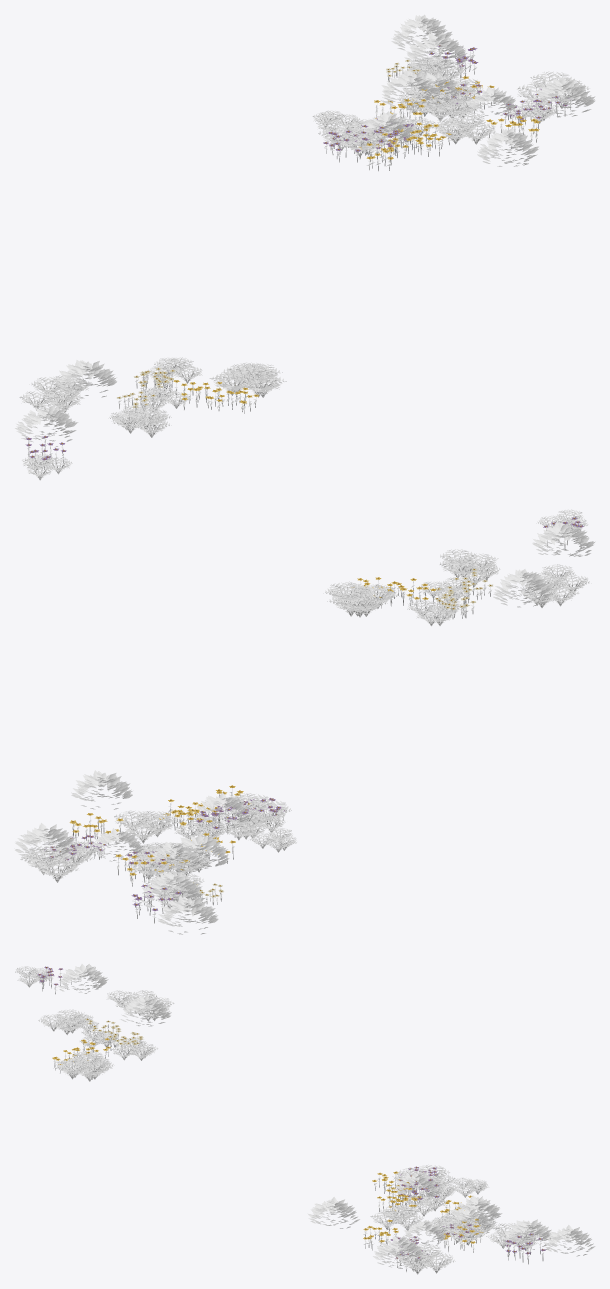
File: SM_NW_Nature_2_1_Flora.fbx
3 renders of one model, top to bottom at view 1: azimuth 30°, elevation 25°; view 2: azimuth 210°, elevation 25°; view 3: azimuth 270°, elevation 25°, orthographic. The views are drawn at different scales.
Parts seen in each view (by area): view 1: SM_NW_Nature_2_1_Flora; view 2: SM_NW_Nature_2_1_Flora; view 3: SM_NW_Nature_2_1_Flora.
Boxes of the visible parts, x1=… form: SM_NW_Nature_2_1_Flora: x1=15, y1=14, x2=595, y2=480; SM_NW_Nature_2_1_Flora: x1=14, y1=509, x2=595, y2=934; SM_NW_Nature_2_1_Flora: x1=15, y1=964, x2=595, y2=1274.
Size of the model in its own units: 2741 by 2117 by 169.
